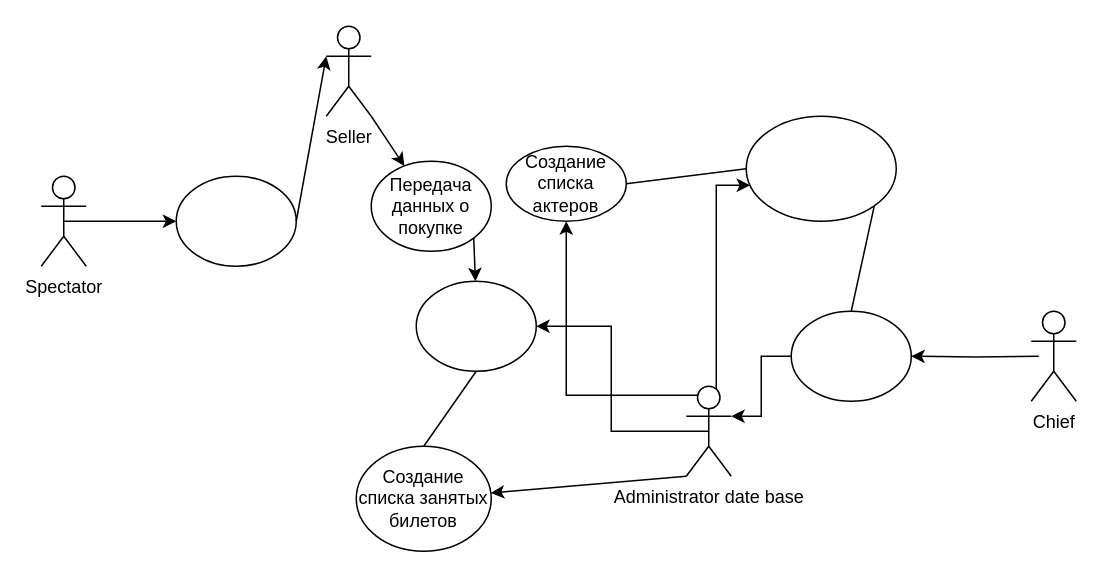
The diagram is 1103 pixels wide and 578 high, and some of its shapes have lost their labels. Here are the shapes that lost their labels. From the top down, the box of each, then its label:
(745, 115, 896, 221): Создание занятости актеров для спектаклей
(175, 175, 296, 266): Покупка билета
(415, 280, 536, 371): Привязка spectators к билету
(790, 310, 911, 401): Данные о актерах
